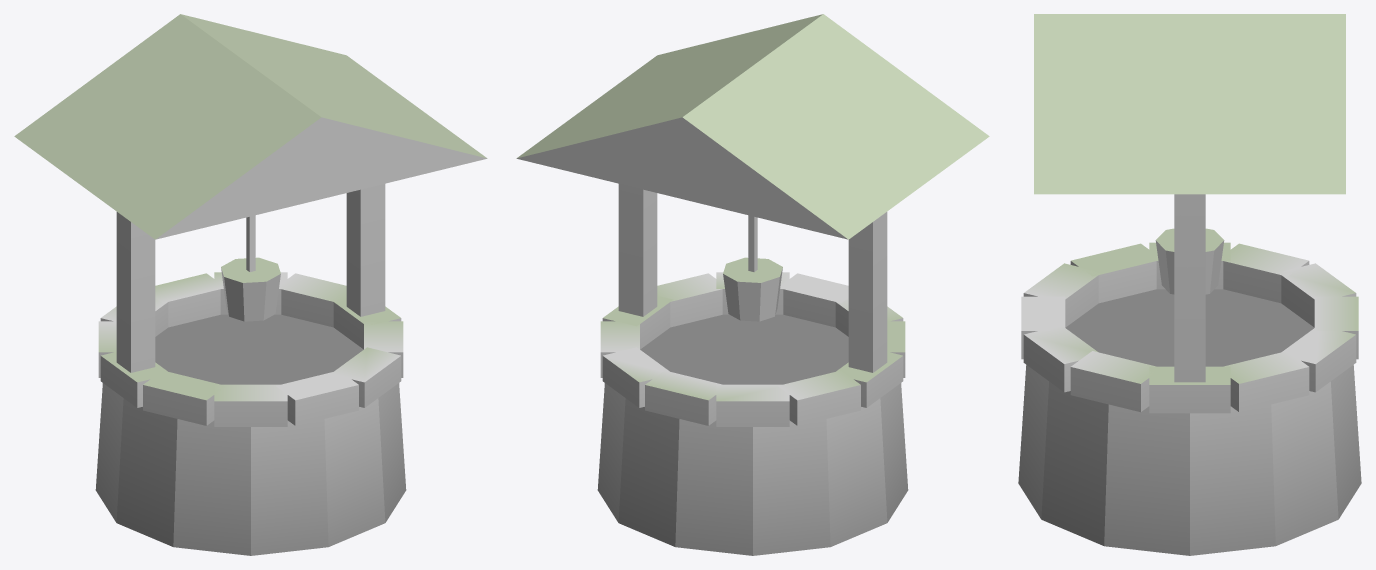
Rendered from well.glb.
The picture shows the model from 3 angles, left to right: view 1: azimuth 30°, elevation 25°; view 2: azimuth 150°, elevation 25°; view 3: azimuth 270°, elevation 25°; orthographic projection. The views are drawn at different scales.
Parts seen in each view (by area): view 1: well; view 2: well; view 3: well.
Boxes of the visible parts, x1,y1,x2,y2 form: well: (14, 14, 487, 555); well: (516, 14, 989, 555); well: (1018, 14, 1361, 555).
Size of the model in its own units: 1.36 by 1.66 by 1.1.
